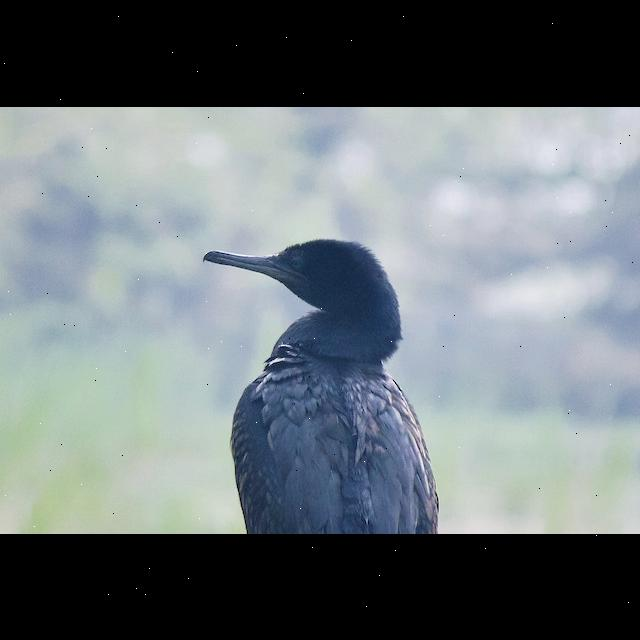cormorant: (190, 235, 446, 533)
